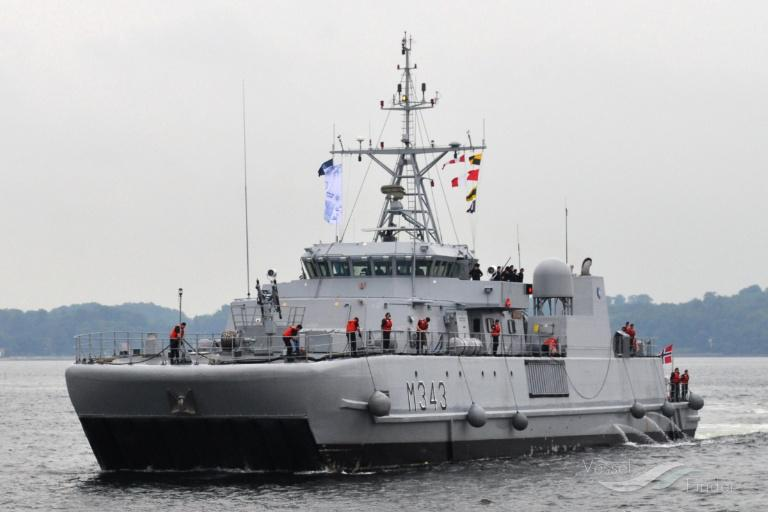OCR: (401, 370, 452, 416)
